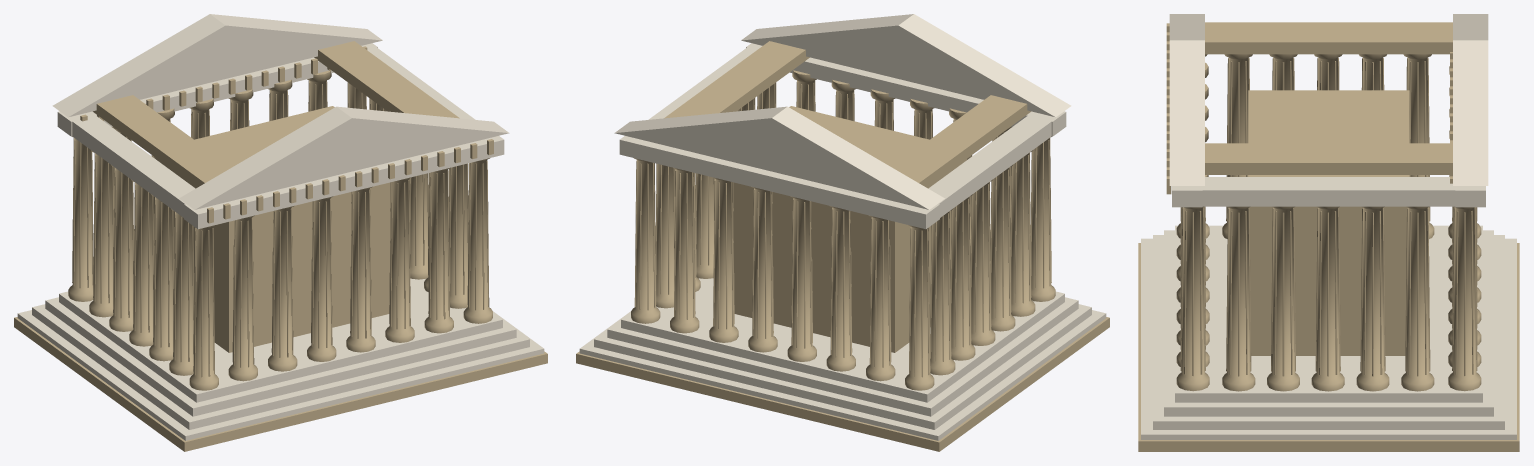
File: parthenon.glb
The picture shows the model from 3 angles, left to right: view 1: azimuth 30°, elevation 25°; view 2: azimuth 150°, elevation 25°; view 3: azimuth 270°, elevation 25°; orthographic projection. The views are drawn at different scales.
Visible parts, largest first — view 1: parthenon_stone, parthenon_ivory; view 2: parthenon_stone, parthenon_ivory; view 3: parthenon_stone, parthenon_ivory.
Boxes of the visible parts, x1,y1,x2,y2 form: parthenon_stone: [14, 41, 547, 451]; parthenon_ivory: [17, 14, 544, 440]; parthenon_stone: [576, 41, 1109, 451]; parthenon_ivory: [579, 14, 1106, 440]; parthenon_stone: [1138, 22, 1519, 451]; parthenon_ivory: [1141, 14, 1516, 439].
Bounding box in the file's own units: 6.4 × 4.7 × 5.2.
